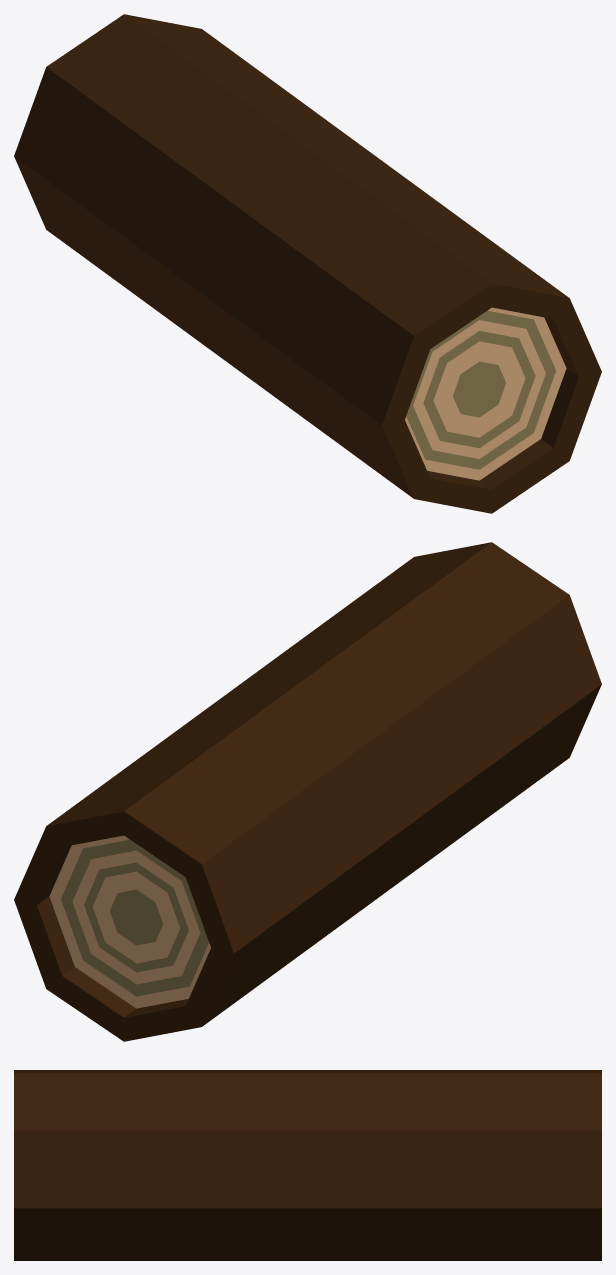
The model's file is Log.fbx.
3 renders of one model, top to bottom at view 1: azimuth 30°, elevation 25°; view 2: azimuth 150°, elevation 25°; view 3: azimuth 270°, elevation 25°, orthographic. The views are drawn at different scales.
Visible parts, largest first — view 1: Log; view 2: Log; view 3: Log.
Part boxes in pixels (<box>): Log: <box>14,14,601,513</box>; Log: <box>14,542,601,1041</box>; Log: <box>14,1070,601,1260</box>.
Size of the model in its own units: 165 by 165 by 477.
